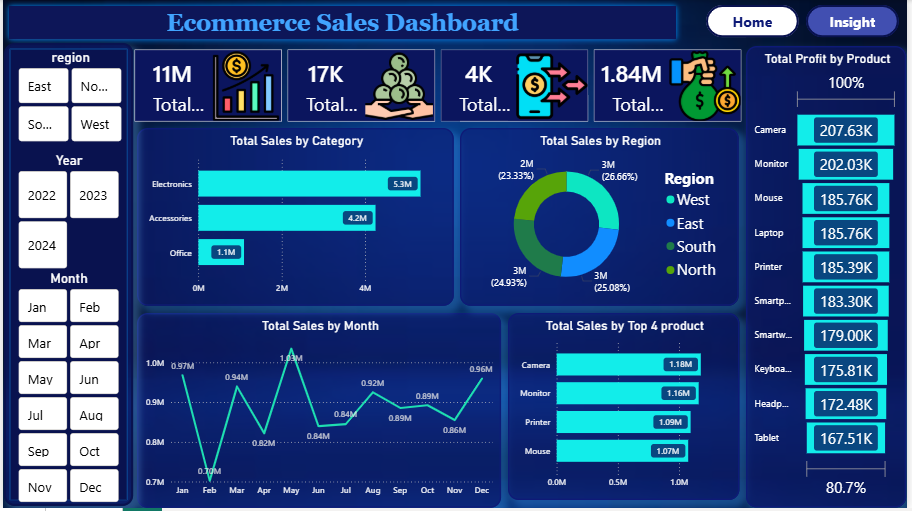

Layout of this report page (visuals, bound fields, positions):
{"tool":"powerbi","page":{"name":"Home","canvas":[1280,720],"ordinal":0},"visuals":[{"type":"shape","title":"Shape header","box":[0,0,962.5,64.4],"z":0},{"type":"shape","title":"left side Shape","box":[1.5,60.5,183.1,656.4],"z":0,"group":"g1"},{"type":"advancedSlicerVisual","fields":{"Values":["Sheet1.Order Date Hierarchy.Year"]},"box":[17.1,214.5,153.3,171.2],"z":1000,"group":"g1"},{"type":"lineChart","title":"Total Sales by Month","fields":{"Y":["Sum(Sheet1.Sales)"],"Category":["Sheet1.Month"]},"box":[190.2,443.4,516.3,276],"z":1000},{"type":"clusteredBarChart","title":"Total Sales by Category","fields":{"Category":["Sheet1.Category"],"Y":["Sum(Sheet1.Sales)"]},"box":[190.2,181.6,449.1,251.7],"z":2000},{"type":"advancedSlicerVisual","title":"Month","fields":{"Values":["Sheet1.Order Date Hierarchy.Month"]},"box":[17.7,382.4,153,334.7],"z":2000,"group":"g1"},{"type":"group","id":"g1","title":"left side bar","box":[1.5,60.5,183.1,656.6],"z":3000},{"type":"advancedSlicerVisual","title":"region","fields":{"Values":["Sheet1.Region"]},"box":[17.1,68.7,157.8,136.9],"z":3000,"group":"g1"},{"type":"pieChart","title":"Total Sales by Region","fields":{"Category":["Sheet1.Region"],"Y":["Sum(Sheet1.Sales)"]},"box":[647.9,181.6,394.7,251.7],"z":4000},{"type":"clusteredBarChart","title":"Total Sales by Top 4 product","fields":{"Category":["Sheet1.Product Name"],"Y":["Sum(Sheet1.Sales)"]},"box":[715.1,443.4,327.5,264.6],"z":5000},{"type":"funnel","title":"Total Profit by Product","fields":{"Category":["Sheet1.Product Name"],"Y":["Sheet1.Total Profit"]},"box":[1052.6,65.8,227.4,653.6],"z":6000},{"type":"actionButton","title":"Home btn","box":[996.8,7.2,131.6,45.8],"z":7000},{"type":"actionButton","title":"Insight btn","box":[1138.4,7.2,131.6,45.8],"z":8000},{"type":"cardVisual","fields":{"Data":["Sheet1.Total Sales","Sheet1.Total Quantity","Sheet1.Total Orders","Sheet1.Total Profit"]},"box":[181.6,65.8,872.4,113],"z":9000}]}

Visuals, with their boxes in screenshot pixels (x1, y1, x2, y2), scaled from the page's 1280x720 canvas onto the 912x511 screenshot:
"Shape header" shape: bbox(0, 0, 686, 46)
"left side Shape" shape: bbox(1, 43, 132, 509)
advancedSlicerVisual - Sheet1.Order Date Hierarchy.Year: bbox(12, 152, 121, 274)
"Total Sales by Month" lineChart: bbox(136, 315, 503, 510)
"Total Sales by Category" clusteredBarChart: bbox(136, 129, 456, 308)
"Month" advancedSlicerVisual: bbox(13, 271, 122, 509)
"left side bar" group: bbox(1, 43, 132, 509)
"region" advancedSlicerVisual: bbox(12, 49, 125, 146)
"Total Sales by Region" pieChart: bbox(462, 129, 743, 308)
"Total Sales by Top 4 product" clusteredBarChart: bbox(510, 315, 743, 502)
"Total Profit by Product" funnel: bbox(750, 47, 911, 510)
"Home btn" actionButton: bbox(710, 5, 804, 38)
"Insight btn" actionButton: bbox(811, 5, 905, 38)
cardVisual - Sheet1.Total Sales x Sheet1.Total Quantity: bbox(129, 47, 751, 127)
